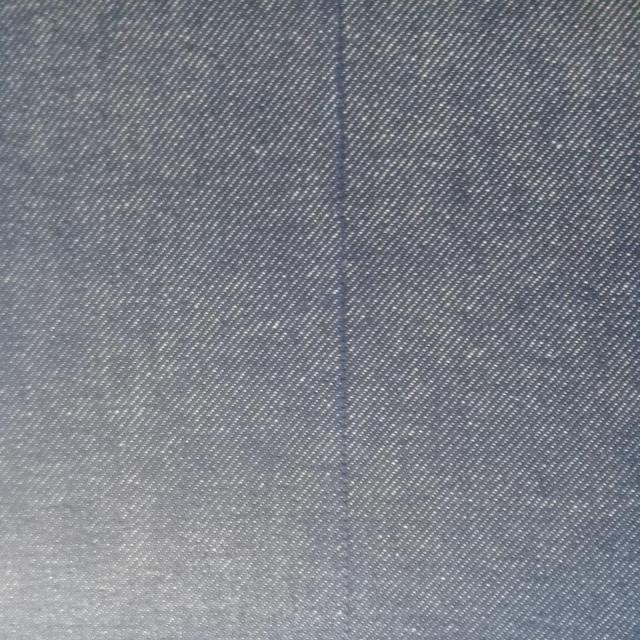Line: (331, 0, 356, 634)
